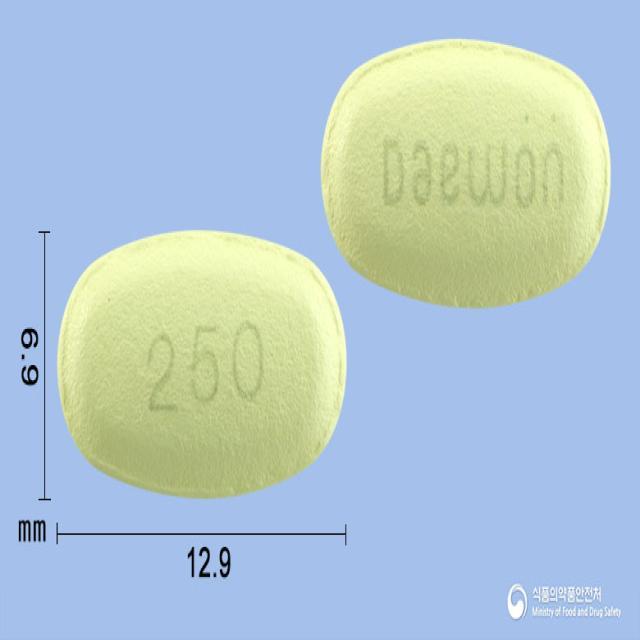Clasin: (318, 38, 614, 315), (55, 224, 348, 500)
